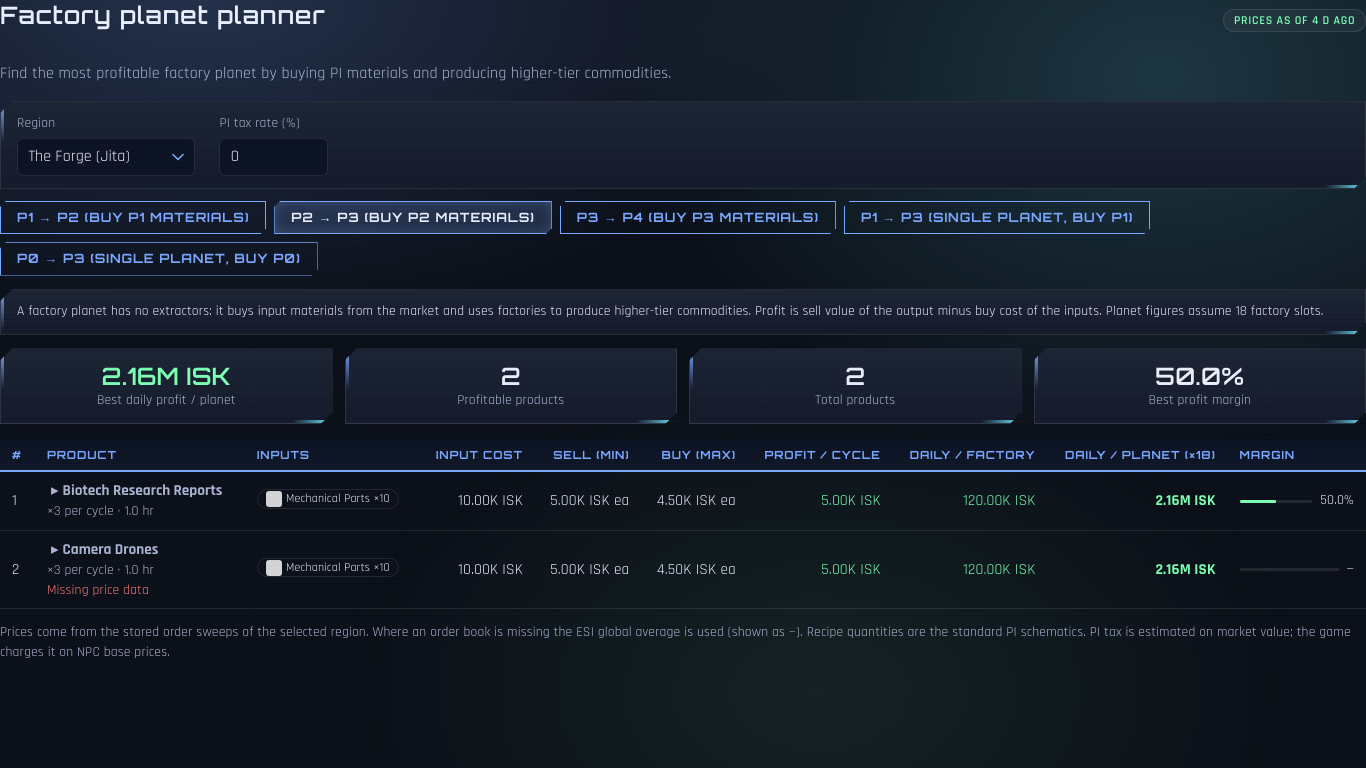
Test: FactoryPlanner › ranks products and opens the breakdown
This screenshot has width=1366, height=768.
Check: the text "Missing price data" is shown, box [47,581,149,599]
Check: the 1st text "2.16M ISK" is shown, box [102,361,231,391]
Click the text "Biotech Research Reports": point(142, 491) [63,481,222,500]
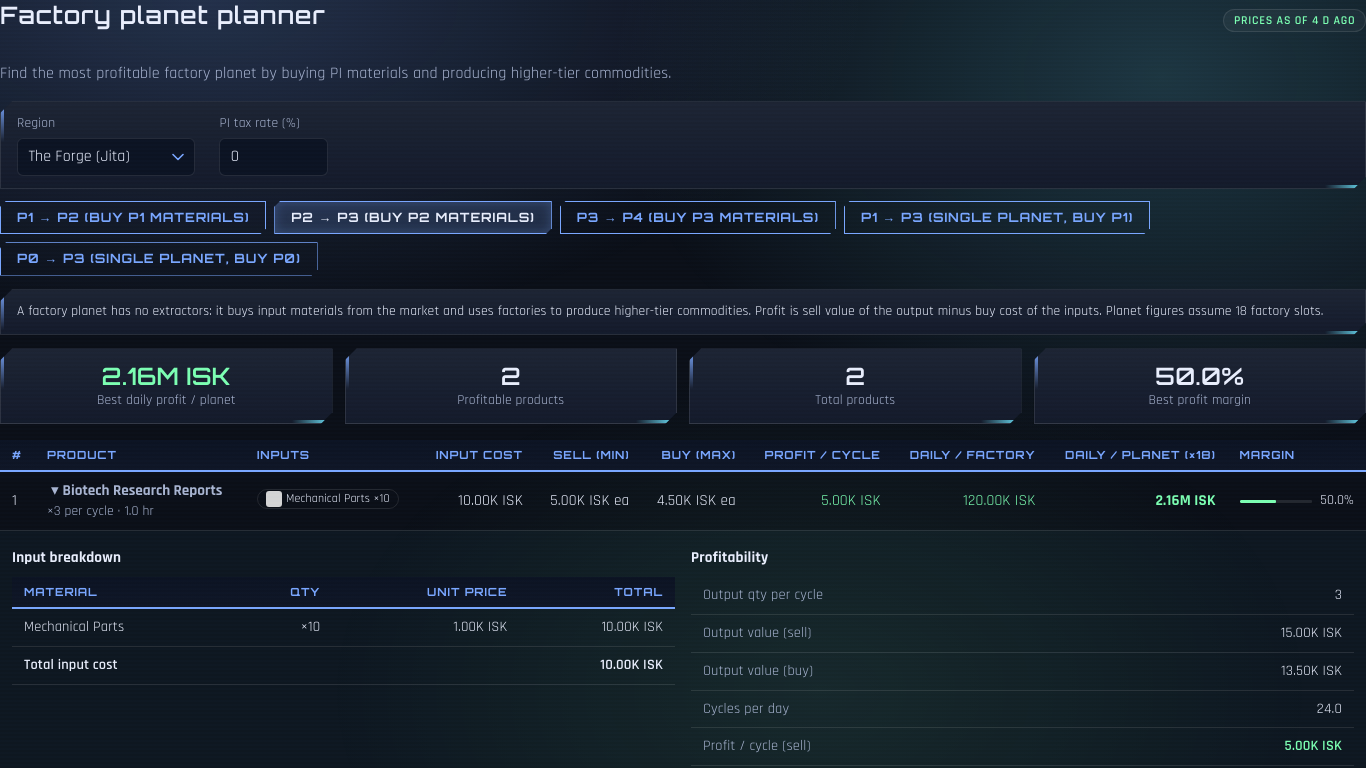
Check: the heading "Input breakdown" is shown, box [12,548,121,567]
Check: the text "×10" is shown, box [235,608,332,646]
